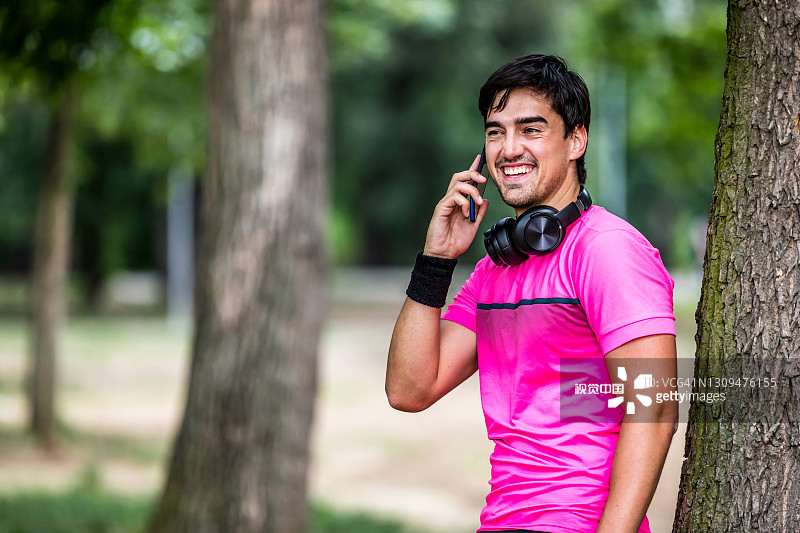calling: (410, 134, 504, 271)
